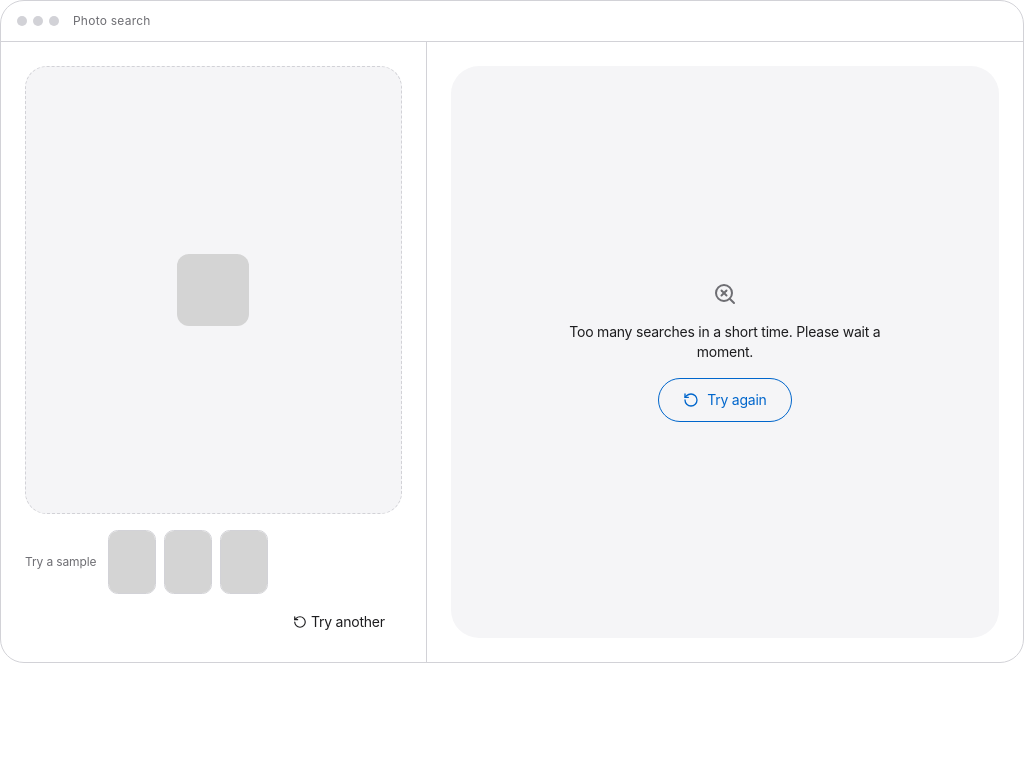
Test: LiveSearch › explains a rate limit, and lets the visitor retry the same photo
This screenshot has width=1024, height=768.
Earlier steps of the test are not shown.
Expected: the message shows "Too many searches in a short time", x1=569 y1=323 x2=880 y2=360
Click the button "Try again".
click(725, 400)  # box x1=658 y1=378 x2=792 y2=422
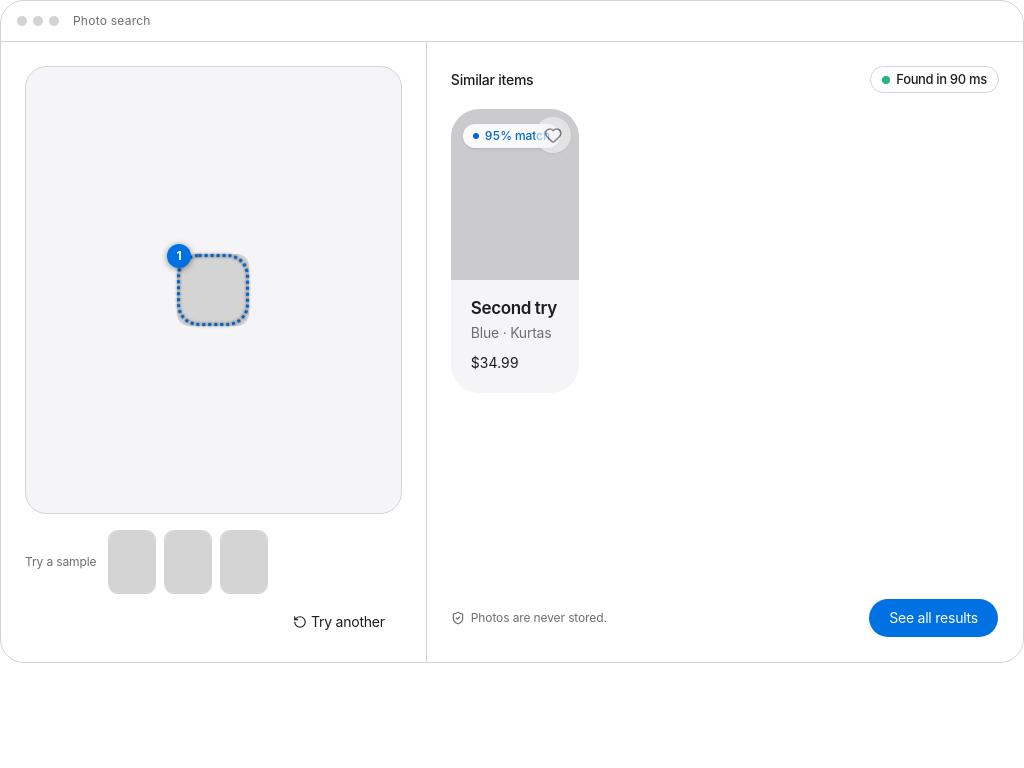
Now the heading "Second try" is shown, box x1=471 y1=296 x2=559 y2=321
